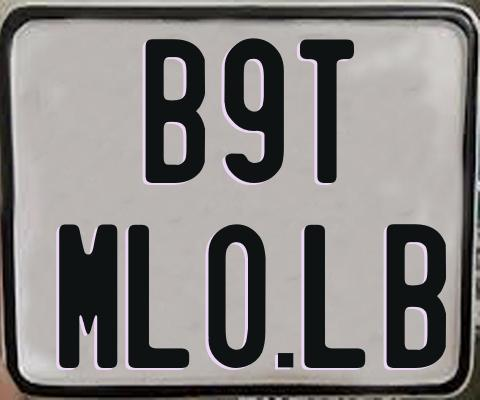0: (205, 222, 267, 368)
9: (222, 38, 282, 187)
B: (385, 222, 450, 367), (146, 39, 208, 184)
L: (128, 225, 193, 369), (302, 224, 365, 371)
M: (57, 224, 121, 369)
T: (298, 37, 356, 182)
